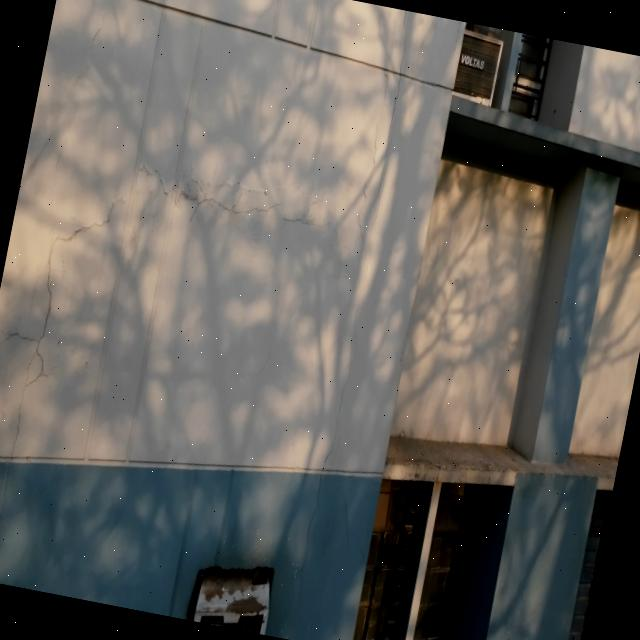crack: (306, 300, 363, 545), (88, 184, 314, 245), (23, 244, 54, 402), (383, 11, 414, 169), (0, 385, 27, 524), (359, 146, 385, 241), (3, 331, 33, 342), (385, 74, 391, 98), (403, 11, 407, 30)
